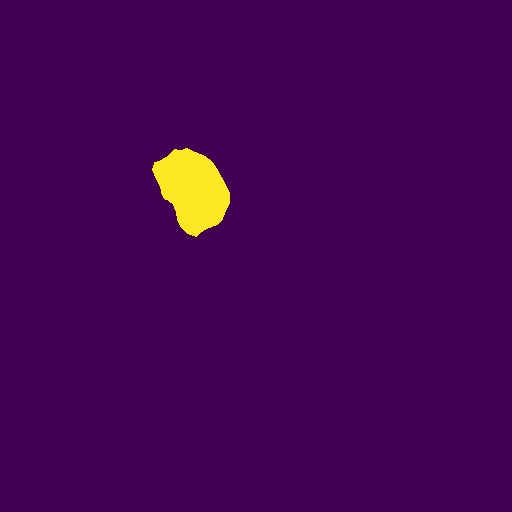Menigiomia_tumour: (152, 148, 230, 237)
